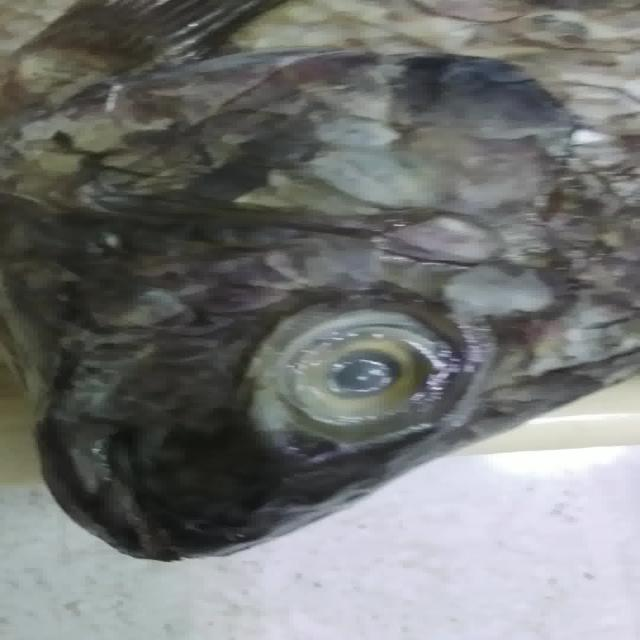Non-Fresh: (253, 292, 470, 436)
